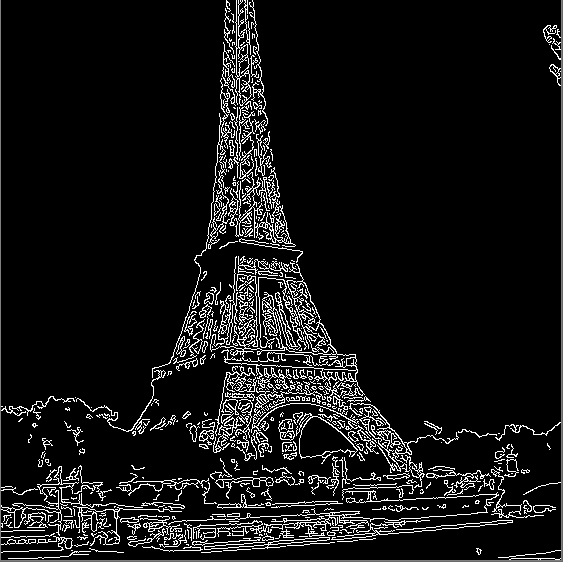eiffel tower: (157, 4, 419, 471)
